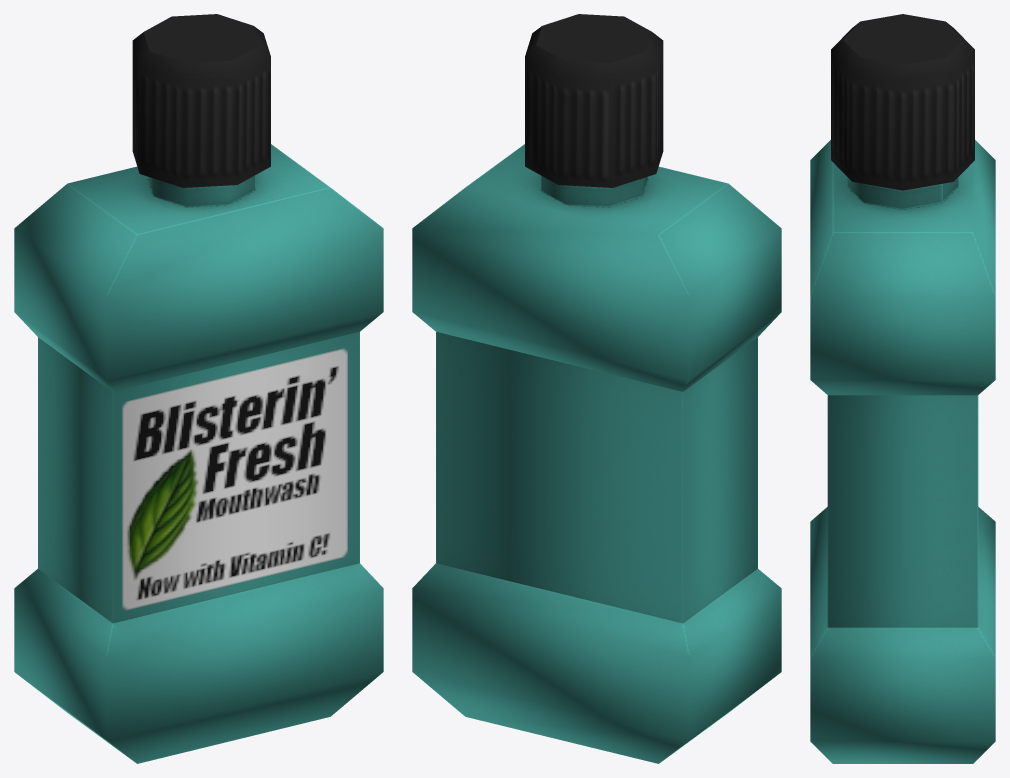
File: mouthwash.FBX
3 views of the same model, side by side, from view 1: azimuth 30°, elevation 25°; view 2: azimuth 150°, elevation 25°; view 3: azimuth 270°, elevation 25° (orthographic).
Visible parts, largest first — view 1: mouthwash; view 2: mouthwash; view 3: mouthwash.
Boxes of the visible parts, x1=… form: mouthwash: x1=14, y1=14, x2=383, y2=763; mouthwash: x1=412, y1=14, x2=781, y2=763; mouthwash: x1=810, y1=14, x2=995, y2=763.
Bounding box in the file's own units: 35.26 × 82.19 × 20.33.
